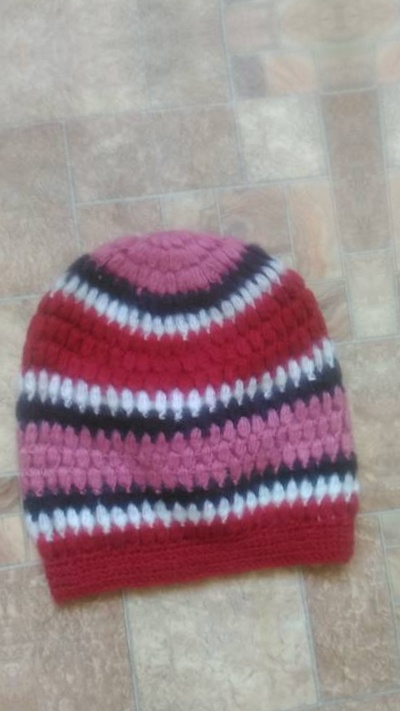Hat: (0, 187, 399, 614), (367, 140, 400, 567)
